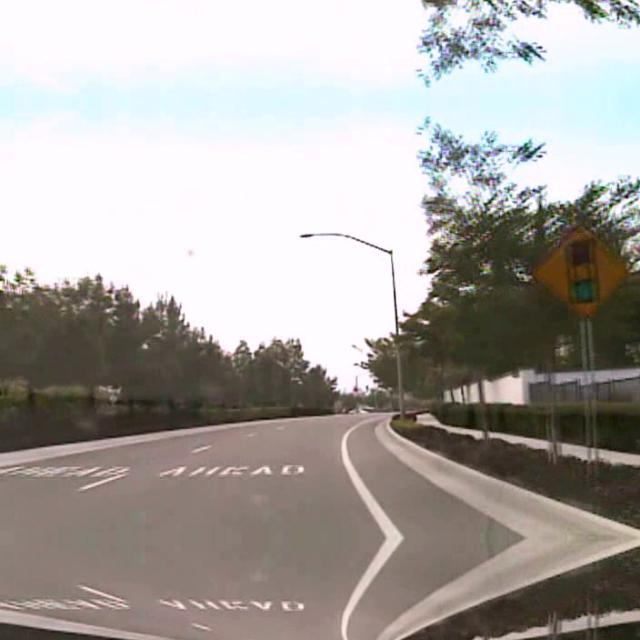signalAhead: (531, 222, 627, 314)
